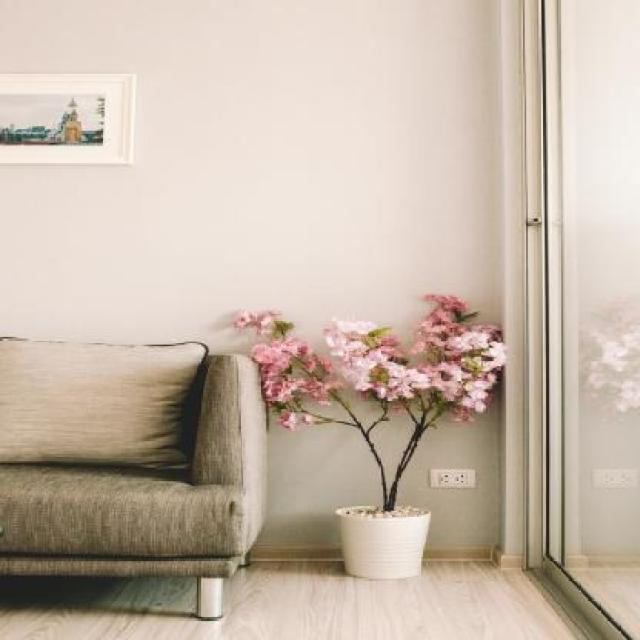floor: (0, 553, 611, 640)
